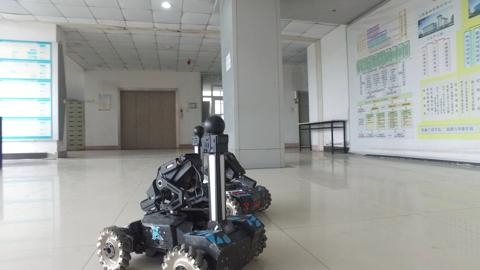chariot: (98, 109, 260, 270)
